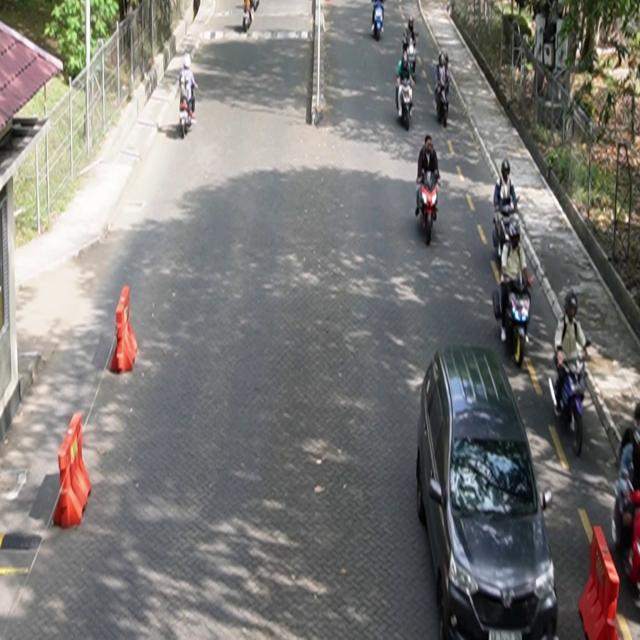car: (417, 344, 560, 640)
